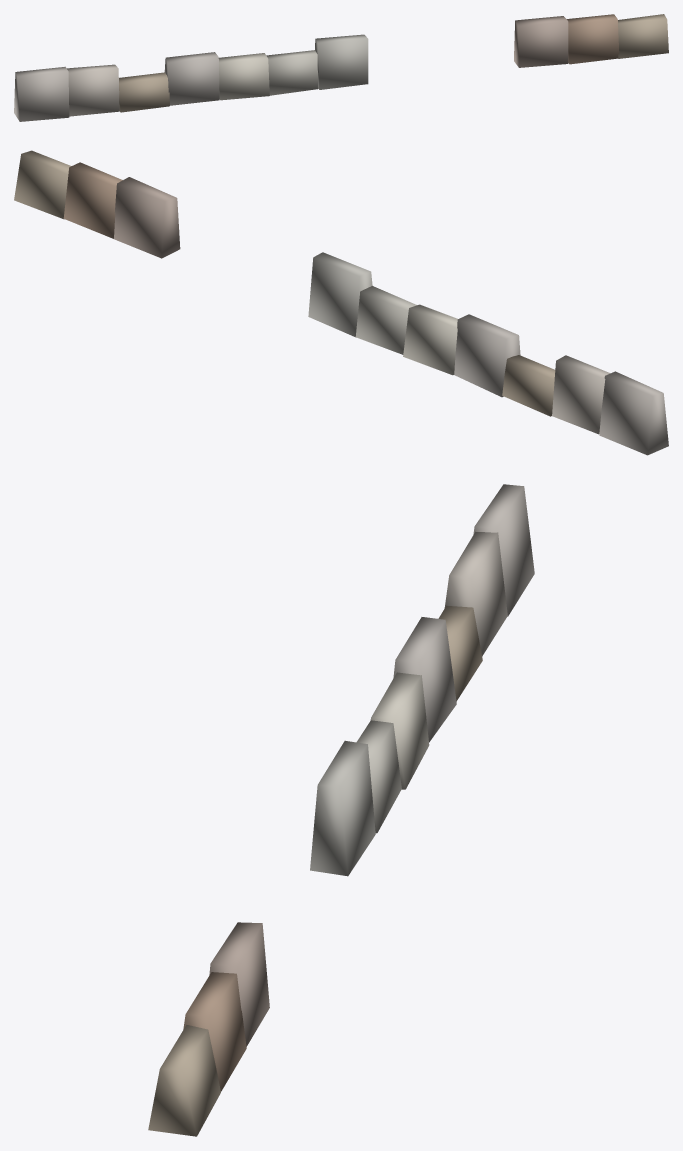
Rendered from farm_8_12_far.glb.
3 renders of one model, top to bottom at view 1: azimuth 30°, elevation 25°; view 2: azimuth 150°, elevation 25°; view 3: azimuth 270°, elevation 25°, orthographic. The views are drawn at different scales.
Visible parts, largest first — view 1: geometry_0; view 2: geometry_0; view 3: geometry_0.
Part boxes in pixels (<box>): geometry_0: <box>14,14,668,121</box>; geometry_0: <box>14,150,668,455</box>; geometry_0: <box>148,484,534,1136</box>.
Size of the model in its own units: 19.54 by 1.63 by 5.75.
